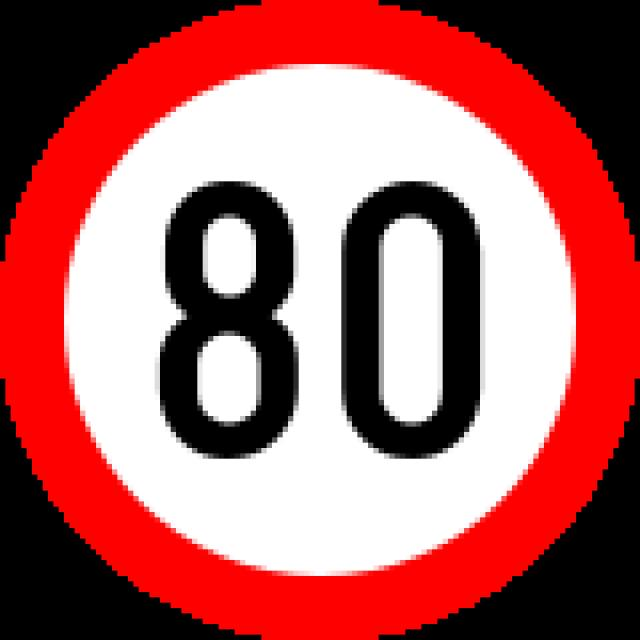Speed Limit -80-: (133, 169, 499, 480)
